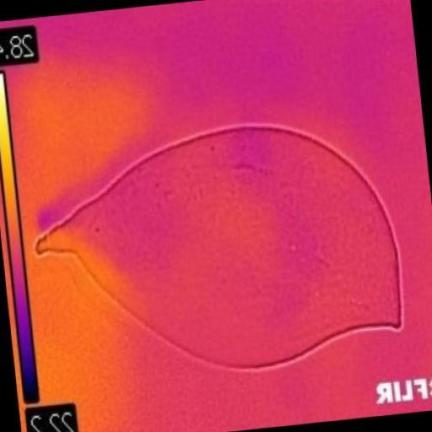mango: (39, 125, 399, 367)
